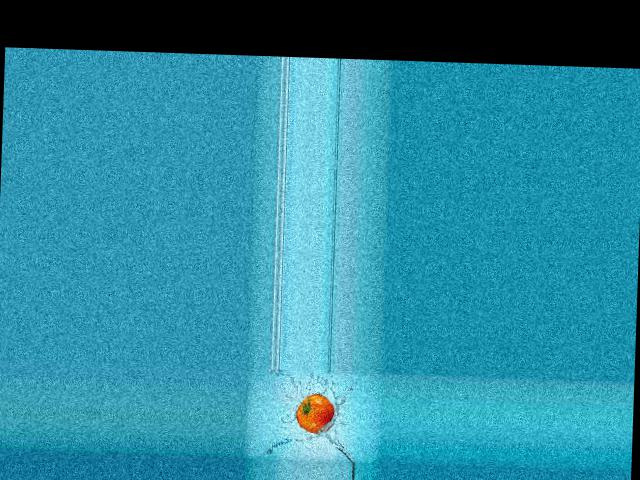tomato: (296, 392, 335, 433)
